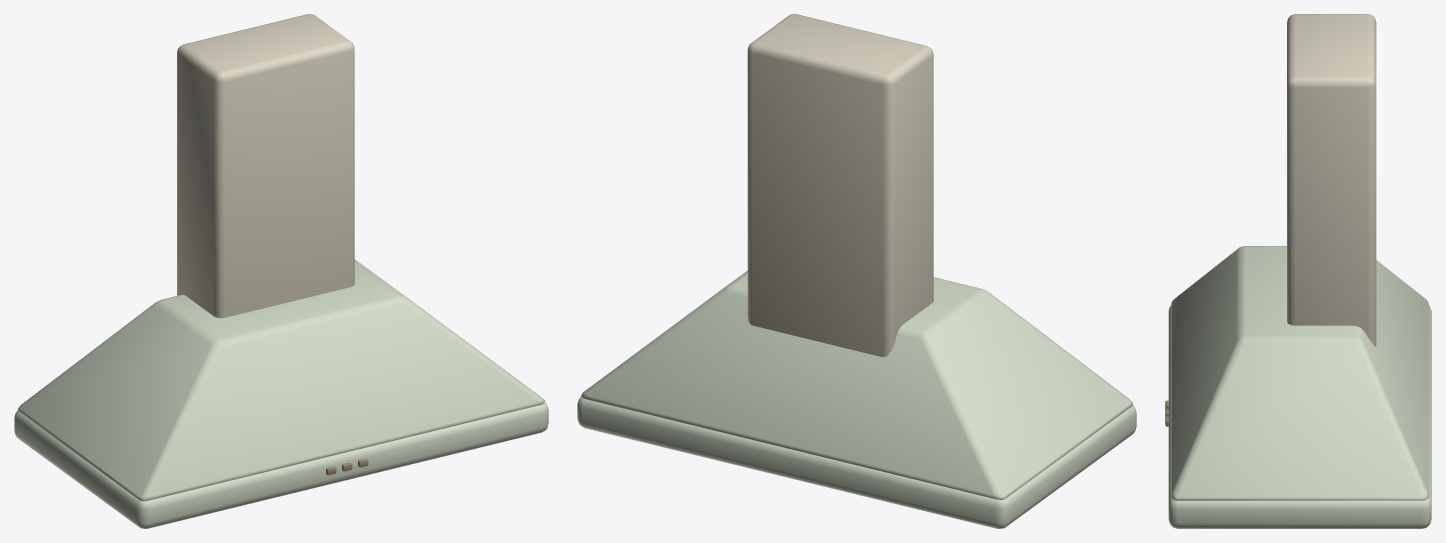
The model's file is chimney-hood.glb.
The picture shows the model from 3 angles, left to right: view 1: azimuth 30°, elevation 25°; view 2: azimuth 150°, elevation 25°; view 3: azimuth 270°, elevation 25°; orthographic projection. The views are drawn at different scales.
Visible parts, largest first — view 1: chimney-hood; view 2: chimney-hood; view 3: chimney-hood.
Part boxes in pixels (left/top/right/bottom): chimney-hood: left=14, top=14, right=548, bottom=528; chimney-hood: left=577, top=14, right=1136, bottom=528; chimney-hood: left=1165, top=14, right=1431, bottom=528.
Bounding box in the file's own units: 0.9 × 0.8 × 0.5.
